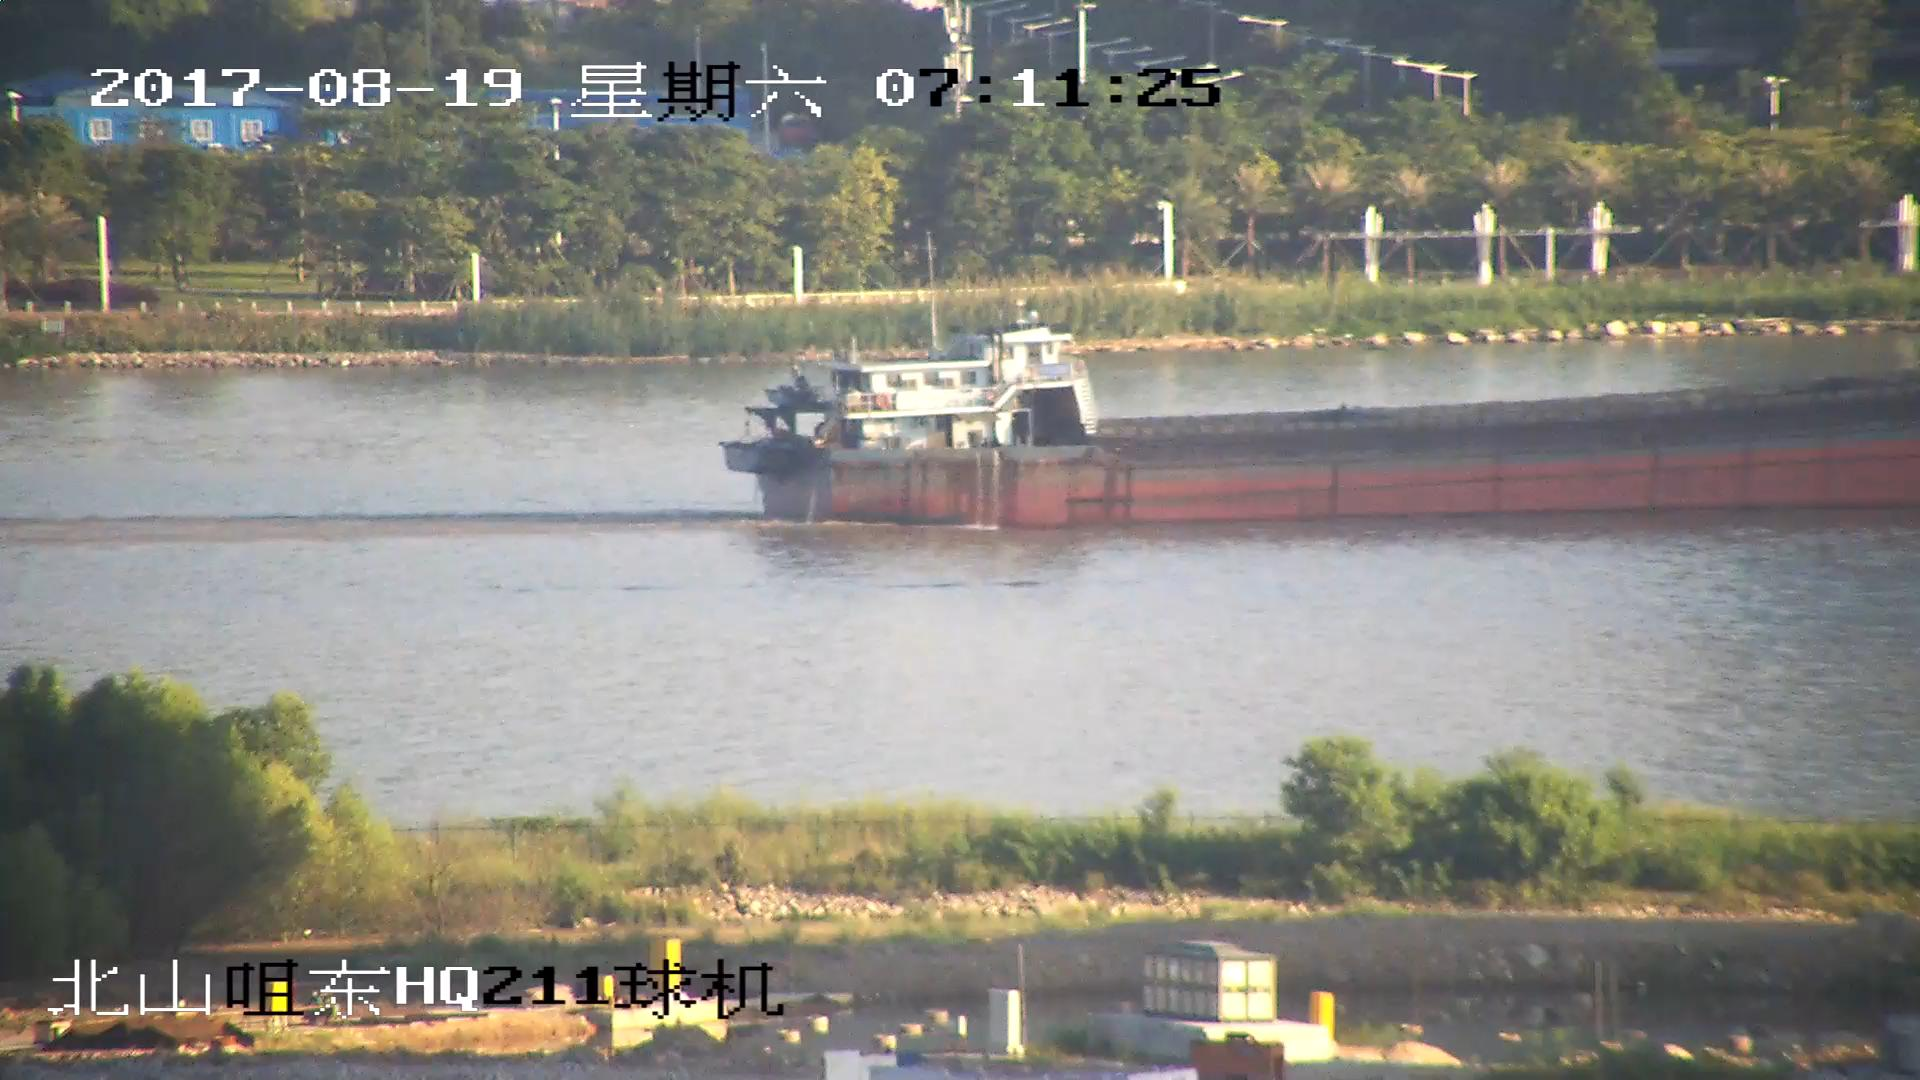bulk cargo carrier: (718, 311, 1920, 531)
